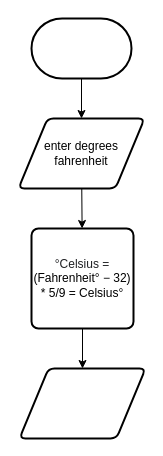
This 163x456 diagram has some shape labels left out. Each missing label, with the centre of its shape:
show degrees celsius: pixel 82 403
start: pixel 81 48
